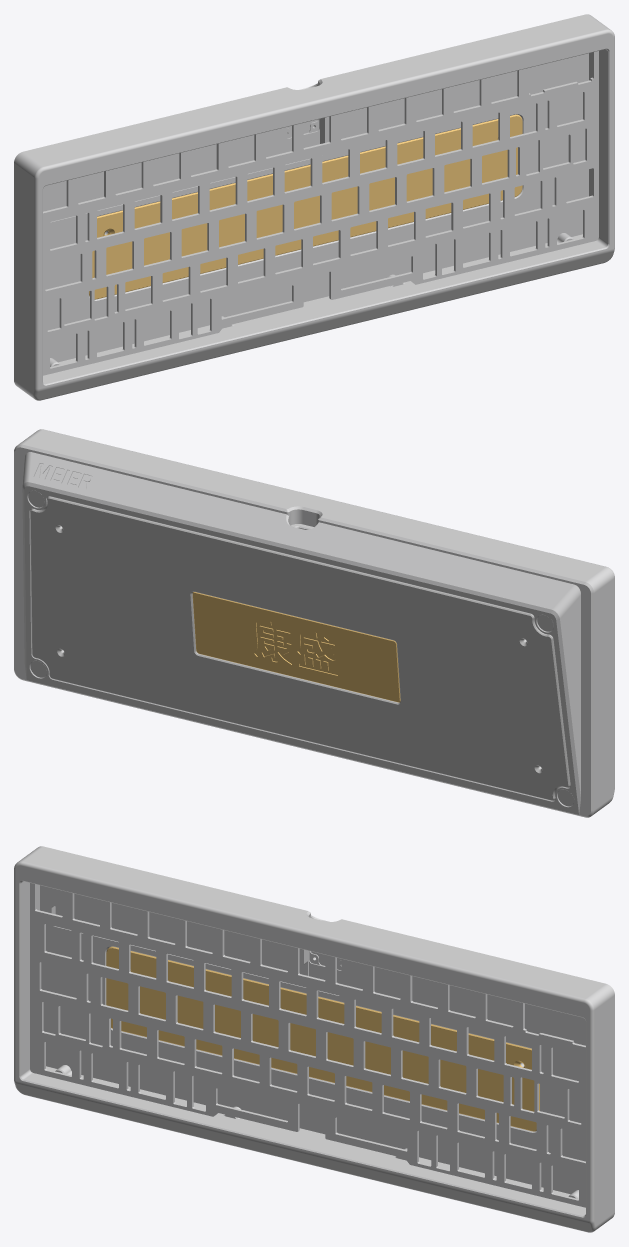
The model's file is meier-josh.fbx.
3 renders of one model, top to bottom at view 1: azimuth 30°, elevation 25°; view 2: azimuth 150°, elevation 25°; view 3: azimuth 330°, elevation 25°, orthographic.
Visible parts, largest first — view 1: Case, Plate, Weight; view 2: Backplate, Case, Weight; view 3: Case, Plate, Weight.
Part boxes in pixels (left/top/right/bottom): Case: left=14, top=14, right=614, bottom=400; Plate: left=43, top=51, right=598, bottom=375; Weight: left=89, top=114, right=522, bottom=299; Backplate: left=30, top=496, right=570, bottom=800; Case: left=14, top=429, right=614, bottom=817; Weight: left=192, top=592, right=400, bottom=702; Case: left=14, top=846, right=614, bottom=1232; Plate: left=30, top=883, right=585, bottom=1207; Weight: left=106, top=946, right=539, bottom=1131.
Bounding box in the file's own units: 294 × 114 × 32.05.
